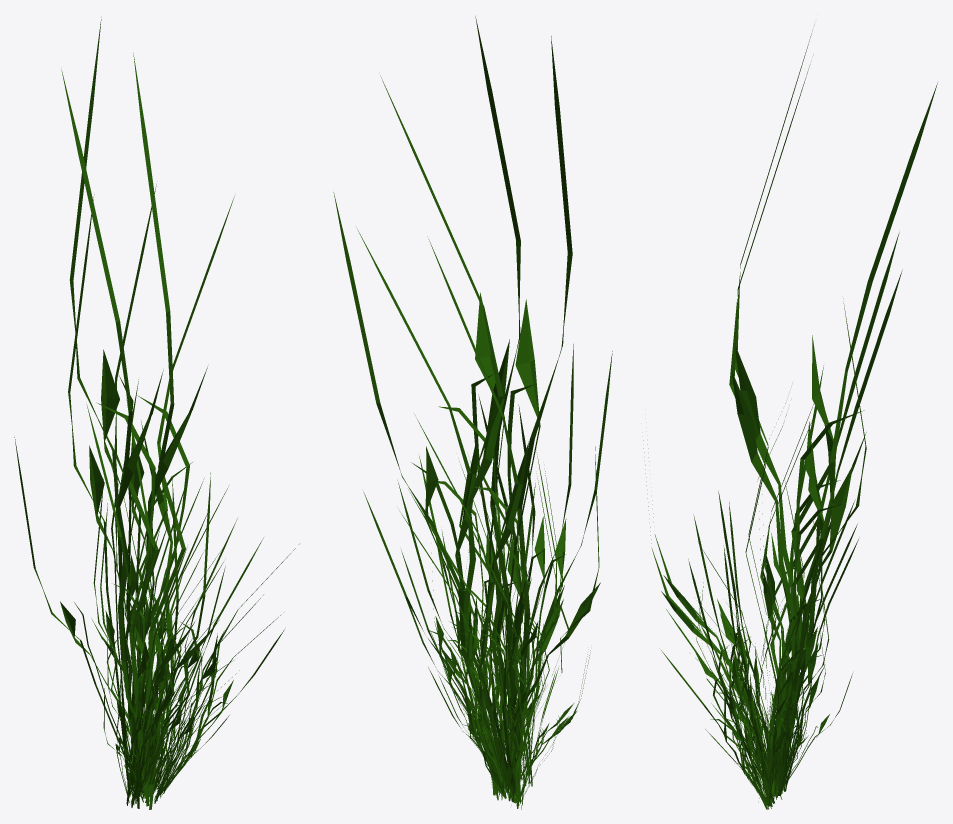
Rendered from Swamp Grass.fbx.
3 views of the same model, side by side, from view 1: azimuth 30°, elevation 25°; view 2: azimuth 150°, elevation 25°; view 3: azimuth 270°, elevation 25° (orthographic). The views are drawn at different scales.
Visible parts, largest first — view 1: Plane.005; view 2: Plane.005; view 3: Plane.005.
Boxes of the visible parts, box(x1,y1,x2,y2) form: Plane.005: box(14, 17, 299, 809); Plane.005: box(333, 16, 612, 809); Plane.005: box(643, 25, 937, 809).
Size of the model in its own units: 373 by 1139 by 403.
